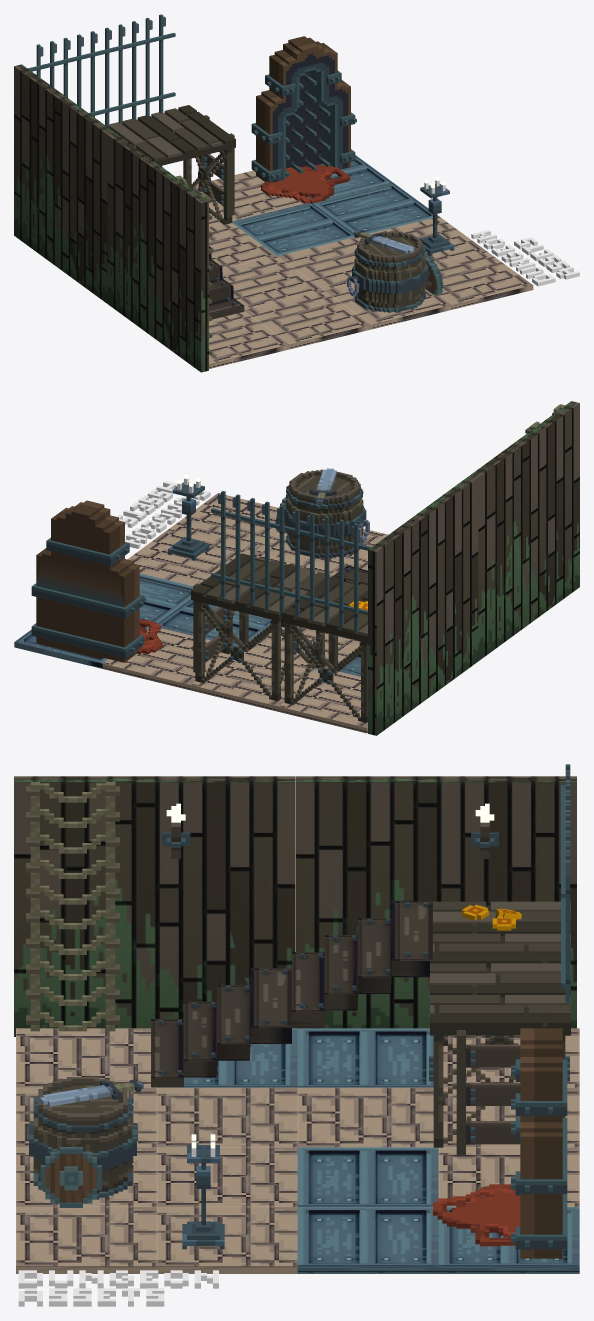
The picture shows the model from 3 angles, top to bottom: view 1: azimuth 30°, elevation 25°; view 2: azimuth 150°, elevation 25°; view 3: azimuth 270°, elevation 25°; orthographic projection. The views are drawn at different scales.
Parts seen in each view (by area): view 1: wall_V_opt_wall-V_0, wall_V_opt_1_wall-V_0, torture1_opt_palette_0, barrel_palette_0, planks1_1_palette_0, floor_4_opt_1_tile1_0, floor_1_opt_10_tile4_0, floor_1_opt_11_tile4_0, floor_4_opt_3_tile1_0, floor_4_opt_1_5_tile1_0, metal_grid_1_1_palette_0, floor_4_opt_0_tile1_0 (+15 smaller); view 2: wall_V_opt_1_wall-V_0, wall_V_opt_wall-V_0, torture1_opt_palette_0, barrel_palette_0, wood_stairs_I_1_palette_0, planks1_1_palette_0, metal_grid_1_1_palette_0, metal_grid_1_palette_0, floor_4_opt_1_13_tile1_0, wood_stairs_I_palette_0, floor_4_opt_1_14_tile1_0, floor_4_opt_1_7_tile1_0 (+13 smaller); view 3: wall_V_opt_wall-V_0, wall_V_opt_1_wall-V_0, torture1_opt_palette_0, floor_2_opt_stais-II_0, floor_2_opt_1_stais-II_0, planks1_1_palette_0, floor_1_opt_11_tile4_0, floor_4_opt_3_tile1_0, floor_1_opt_10_tile4_0, floor_4_opt_1_5_tile1_0, floor_4_opt_1_9_tile1_0, floor_4_opt_1_7_tile1_0 (+25 smaller).
Part boxes in pixels (left/top/right/bottom): wall_V_opt_wall-V_0: left=107, top=133, right=208, bottom=372; wall_V_opt_1_wall-V_0: left=14, top=64, right=114, bottom=303; torture1_opt_palette_0: left=251, top=36, right=356, bottom=182; barrel_palette_0: left=347, top=231, right=428, bottom=312; planks1_1_palette_0: left=109, top=105, right=235, bottom=165; floor_4_opt_1_tile1_0: left=244, top=290, right=370, bottom=349; floor_1_opt_10_tile4_0: left=232, top=202, right=354, bottom=255; floor_1_opt_11_tile4_0: left=314, top=182, right=438, bottom=233; floor_4_opt_3_tile1_0: left=436, top=251, right=533, bottom=309; floor_4_opt_1_5_tile1_0: left=222, top=256, right=323, bottom=309; metal_grid_1_1_palette_0: left=93, top=14, right=175, bottom=127; floor_4_opt_0_tile1_0: left=209, top=311, right=289, bottom=368; wall_V_opt_1_wall-V_0: left=368, top=475, right=478, bottom=735; wall_V_opt_wall-V_0: left=470, top=401, right=579, bottom=661; torture1_opt_palette_0: left=31, top=500, right=145, bottom=662; barrel_palette_0: left=283, top=469, right=369, bottom=558; wood_stairs_I_1_palette_0: left=195, top=601, right=324, bottom=700; planks1_1_palette_0: left=191, top=553, right=329, bottom=621; metal_grid_1_1_palette_0: left=211, top=491, right=300, bottom=614; metal_grid_1_palette_0: left=285, top=509, right=371, bottom=632; floor_4_opt_1_13_tile1_0: left=190, top=650, right=319, bottom=711; wood_stairs_I_palette_0: left=284, top=623, right=367, bottom=722; floor_4_opt_1_14_tile1_0: left=102, top=628, right=230, bottom=690; floor_4_opt_1_7_tile1_0: left=127, top=530, right=250, bottom=585; wall_V_opt_wall-V_0: left=14, top=776, right=295, bottom=1036; wall_V_opt_1_wall-V_0: left=295, top=776, right=576, bottom=1028; torture1_opt_palette_0: left=511, top=1028, right=567, bottom=1258; floor_2_opt_stais-II_0: left=292, top=901, right=432, bottom=1027; floor_2_opt_1_stais-II_0: left=151, top=968, right=291, bottom=1087; planks1_1_palette_0: left=430, top=963, right=570, bottom=1035; floor_1_opt_11_tile4_0: left=297, top=1207, right=438, bottom=1273; floor_4_opt_3_tile1_0: left=16, top=1207, right=156, bottom=1273; floor_1_opt_10_tile4_0: left=297, top=1147, right=438, bottom=1206; floor_4_opt_1_5_tile1_0: left=157, top=1087, right=297, bottom=1147; floor_4_opt_1_9_tile1_0: left=297, top=1087, right=433, bottom=1147; floor_4_opt_1_7_tile1_0: left=157, top=1207, right=297, bottom=1273.
Bounding box in the file's own units: 141 × 66.19 × 120.
Materials: 7 (6 with a texture image).
